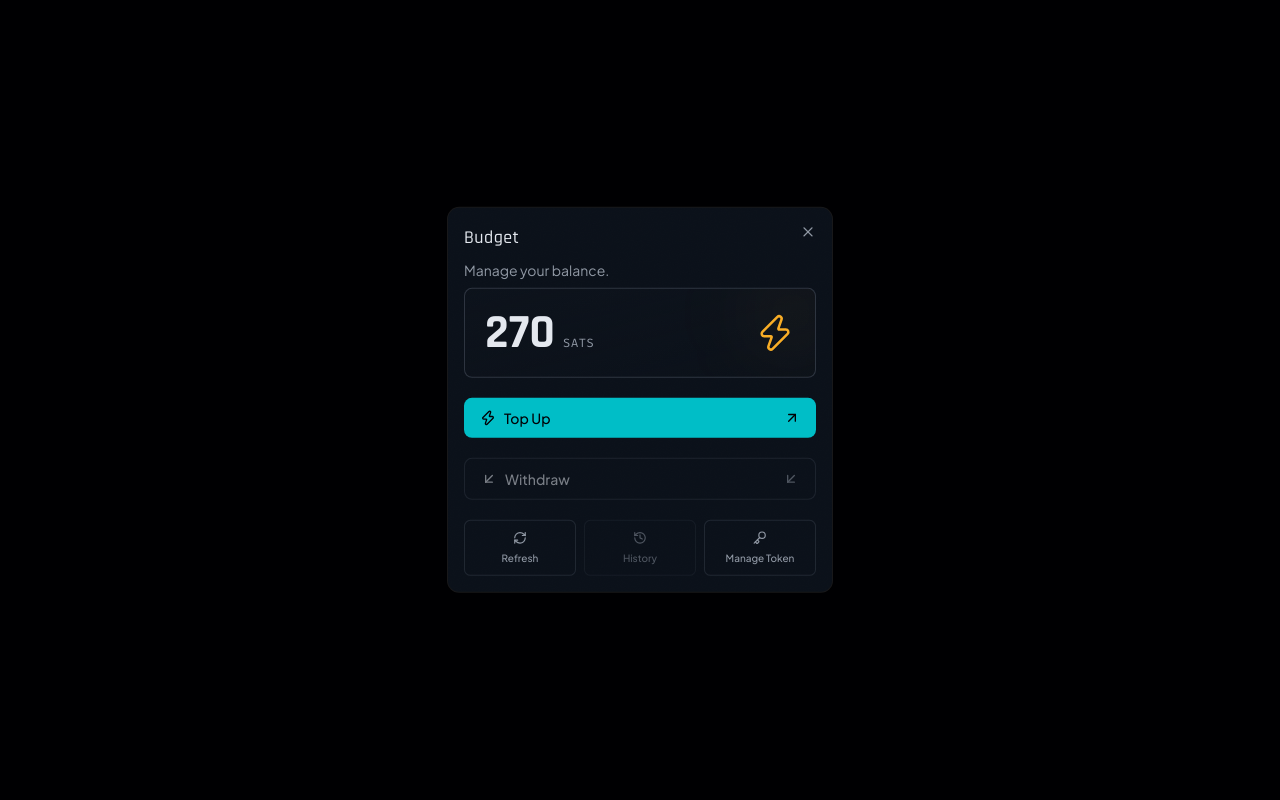
BudgetModal success screen delta › does NOT show delta line after direct payL402 path (no amount picker)
// Click Top Up → should go directly through payL402 (no amount step)
Click the button "Top Up": (527, 418) x1=464 y1=398 x2=816 y2=438
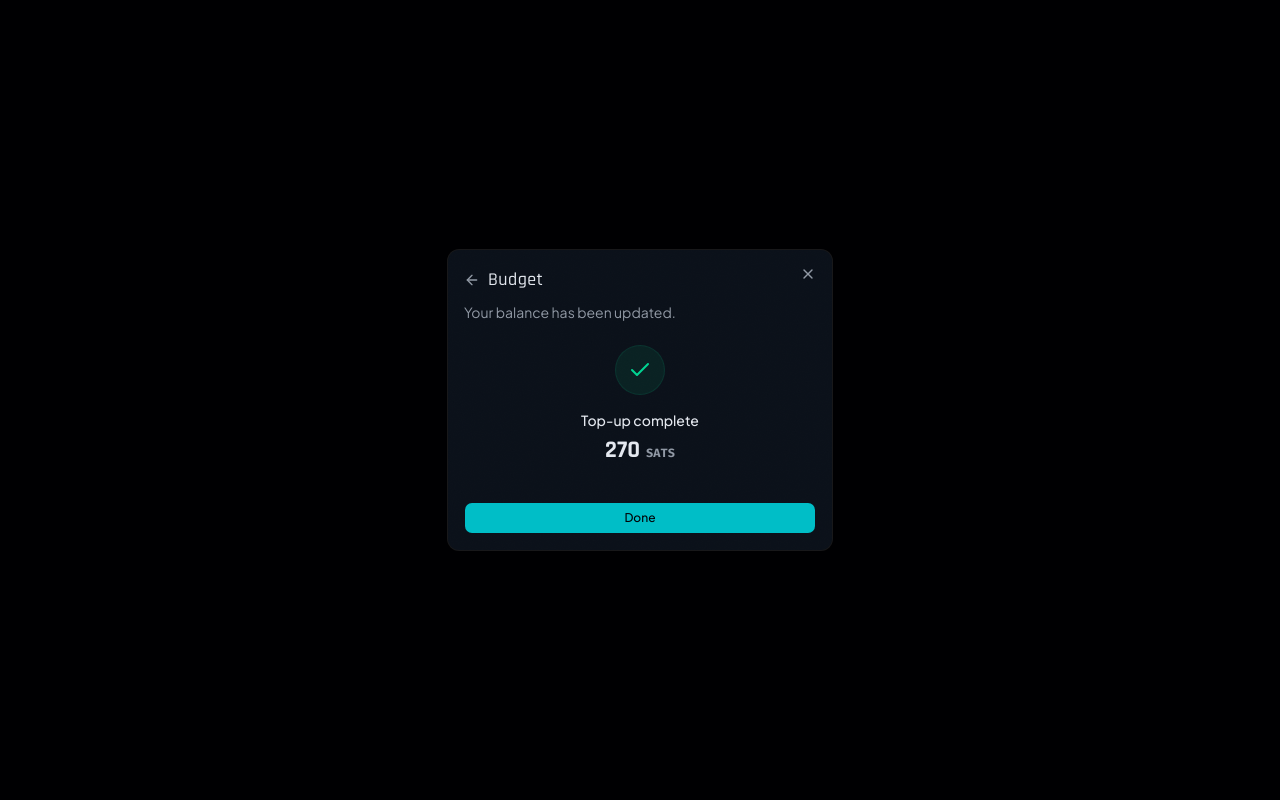
Expected: the text "Top-up complete" is shown, x1=581 y1=410 x2=699 y2=430
Expected: the text "270sats" is shown, x1=605 y1=435 x2=675 y2=465
